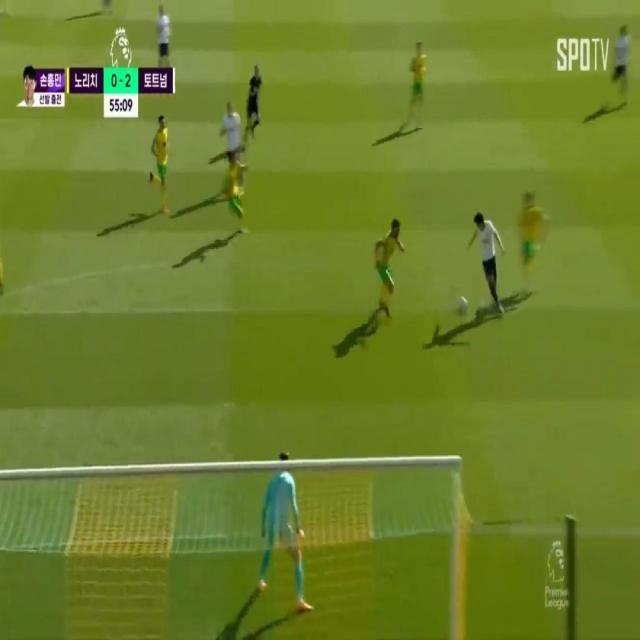ball: (456, 295, 471, 320)
goalkeeper: (250, 443, 312, 619)
player: (373, 216, 399, 310), (520, 187, 542, 286), (151, 112, 172, 211), (474, 207, 493, 307), (225, 153, 247, 233), (614, 19, 634, 102), (154, 3, 171, 89), (409, 37, 428, 110), (220, 97, 239, 163)
referee: (246, 64, 262, 142)
